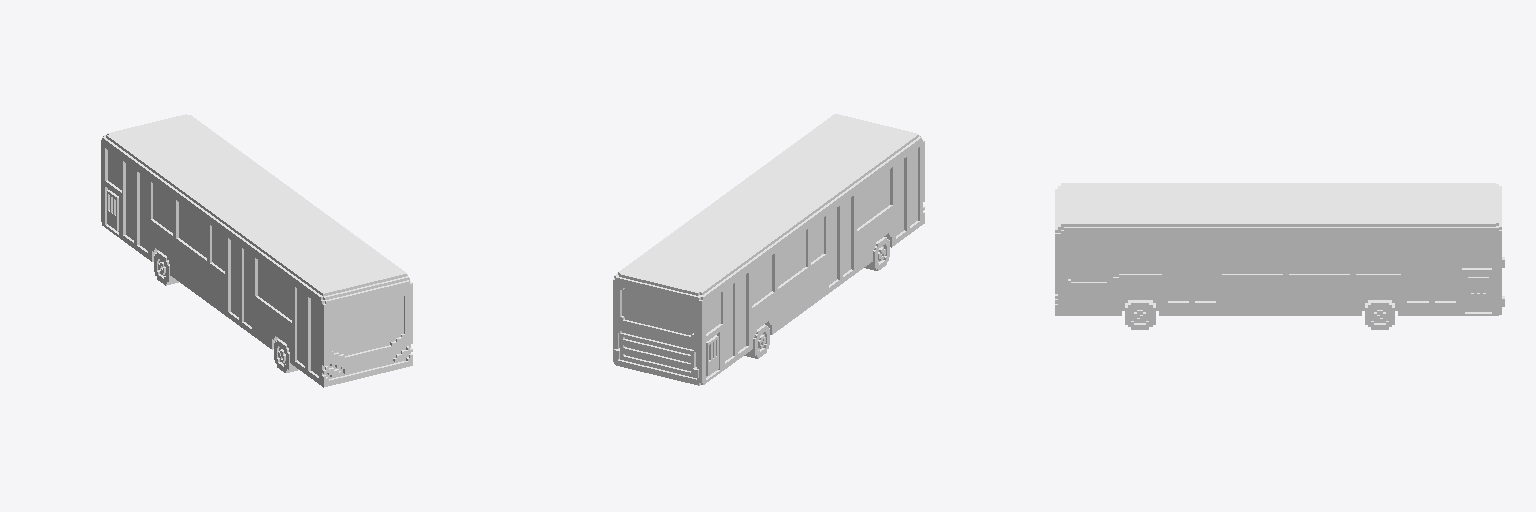
File: Bus_Mio1.obj
3 renders of one model, left to right at view 1: azimuth 30°, elevation 25°; view 2: azimuth 150°, elevation 25°; view 3: azimuth 270°, elevation 25°, orthographic.
Visible parts, largest first — view 1: object 1; view 2: object 1; view 3: object 1.
Part boxes in pixels (bbox=[...]): object 1: bbox=[101, 114, 412, 387]; object 1: bbox=[613, 114, 924, 385]; object 1: bbox=[1055, 183, 1504, 329].
Size of the model in its own units: 3.4 by 3.8 by 14.8.